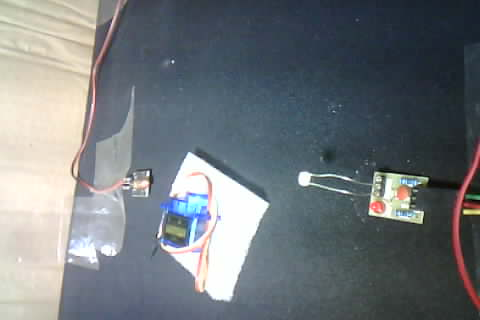motor: (153, 151, 270, 301)
